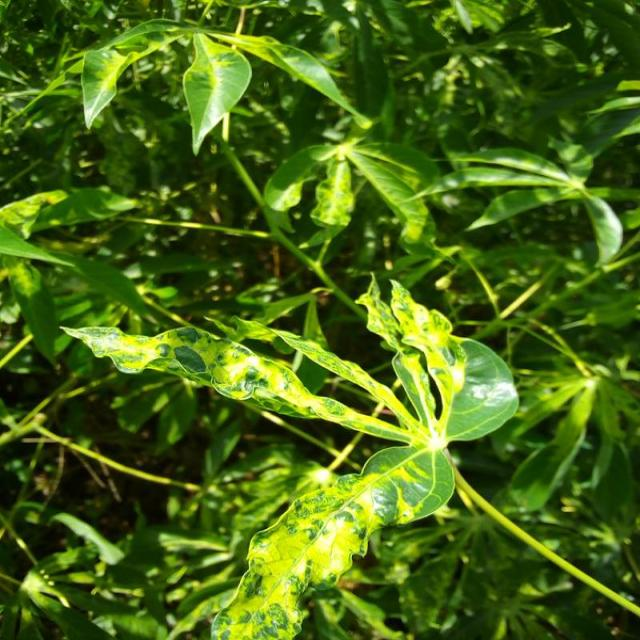cassava leaf: (58, 272, 520, 638), (181, 30, 252, 156)
